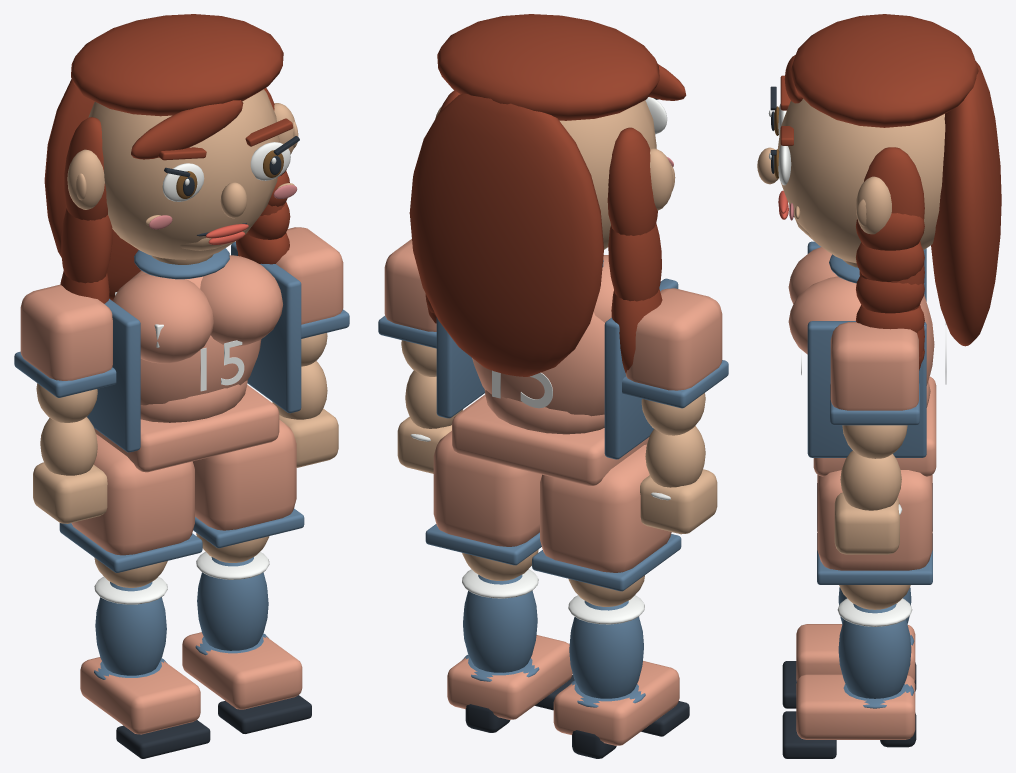
Rendered from Yasmin.fbx.
3 views of the same model, side by side, from view 1: azimuth 30°, elevation 25°; view 2: azimuth 150°, elevation 25°; view 3: azimuth 270°, elevation 25° (orthographic). The views are drawn at different scales.
Parts seen in each view (by area): view 1: HairCap, Head, Shorts_Left, Shorts_Right, Sleeve_Left, Waist, TailoredChest, HeelShoeUpper_Right, HeelShoeUpper_Left, TailoredChest.001, KitSidePanel.001, Sock_Left (+35 smaller); view 2: LongHairBack, HairCap, Shorts_Left, Shorts_Right, Waist, Sleeve_Left, HeelShoeUpper_Left, HeelShoeUpper_Right, Sock_Left, Sock_Right, FittedTorso, LongSideLock (+28 smaller); view 3: HairCap, LongHairBack, Head, Sleeve_Right, HeelShoeUpper_Right, Shorts_Right, KitSidePanel.001, Sock_Right, Hand_Right, Forearm_Right, TailoredChest.001, LongSideLock.003 (+20 smaller).
Boxes of the visible parts, x1,y1,x2,y2 form: HairCap: [71, 14, 283, 116]; Head: [88, 89, 279, 259]; Shorts_Left: [71, 434, 194, 555]; Shorts_Right: [193, 420, 296, 530]; Sleeve_Left: [20, 284, 112, 380]; Waist: [94, 385, 279, 472]; TailoredChest: [113, 273, 213, 363]; HeelShoeUpper_Right: [182, 632, 302, 709]; HeelShoeUpper_Left: [80, 657, 200, 734]; TailoredChest.001: [200, 255, 282, 346]; KitSidePanel.001: [231, 242, 301, 413]; Sock_Left: [95, 582, 166, 675]; LongHairBack: [409, 93, 603, 376]; HairCap: [437, 14, 659, 120]; Shorts_Left: [540, 444, 671, 572]; Shorts_Right: [433, 431, 541, 546]; Waist: [452, 394, 649, 485]; Sleeve_Left: [625, 288, 722, 390]; HeelShoeUpper_Left: [553, 661, 679, 745]; HeelShoeUpper_Right: [447, 635, 572, 719]; Sock_Left: [569, 600, 643, 698]; Sock_Right: [463, 575, 537, 672]; FittedTorso: [472, 312, 604, 416]; LongSideLock: [607, 127, 657, 235]; HairCap: [790, 14, 978, 127]; LongHairBack: [931, 61, 1001, 346]; Head: [778, 98, 945, 263]; Sleeve_Right: [830, 322, 918, 410]; HeelShoeUpper_Right: [796, 674, 915, 739]; Shorts_Right: [817, 470, 932, 570]; KitSidePanel.001: [807, 321, 926, 457]; Sock_Right: [838, 603, 911, 698]; Hand_Right: [834, 492, 899, 554]; Forearm_Right: [840, 450, 901, 510]; TailoredChest.001: [788, 276, 860, 354]; LongSideLock.003: [864, 147, 924, 219].
Bounding box in the file's own units: 89.61 × 195 × 63.73.
